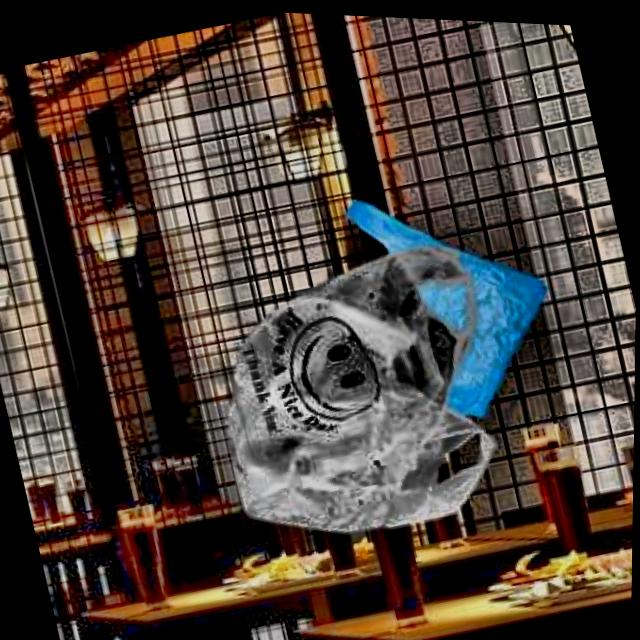Plastic: (153, 195, 540, 580), (314, 139, 577, 450)
